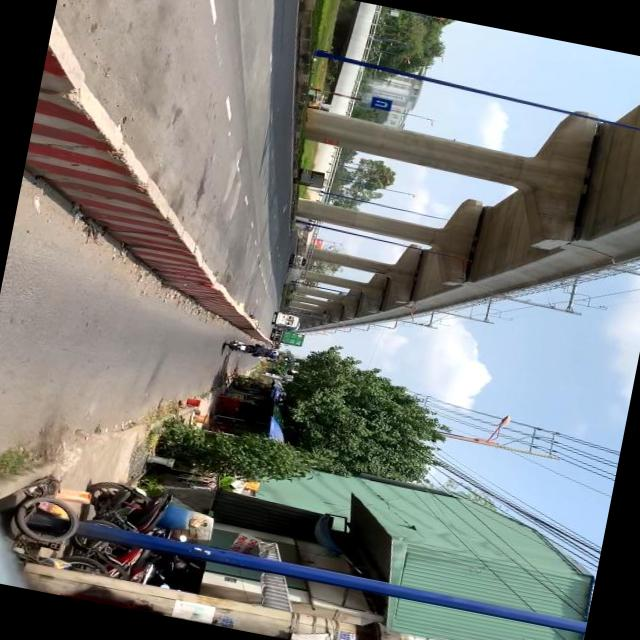I-409: (369, 95, 394, 112)
